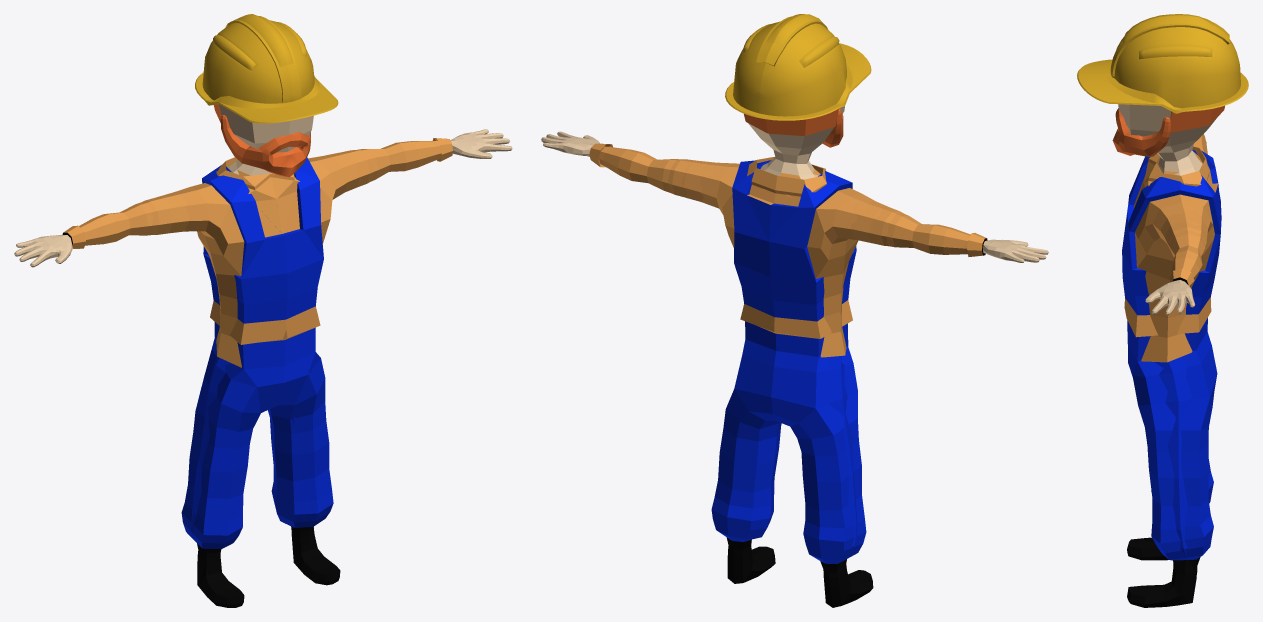
The model's file is Characters.fbx.
3 views of the same model, side by side, from view 1: azimuth 30°, elevation 25°; view 2: azimuth 150°, elevation 25°; view 3: azimuth 270°, elevation 25° (orthographic).
Parts seen in each view (by area): view 1: Character_3, Character_1, Character_2; view 2: Character_3, Character_1, Character_2; view 3: Character_3, Character_1, Character_2.
Part boxes in pixels (box(x1,y1,x2,y2)): Character_3: box(14, 19, 512, 607); Character_1: box(20, 14, 504, 607); Character_2: box(210, 211, 320, 344); Character_3: box(541, 21, 1048, 607); Character_1: box(550, 14, 1047, 607); Character_2: box(740, 194, 852, 338); Character_3: box(1080, 20, 1241, 607); Character_1: box(1077, 14, 1248, 606); Character_2: box(1124, 183, 1218, 337).
Bounding box in the file's own units: 359 × 393 × 108.
